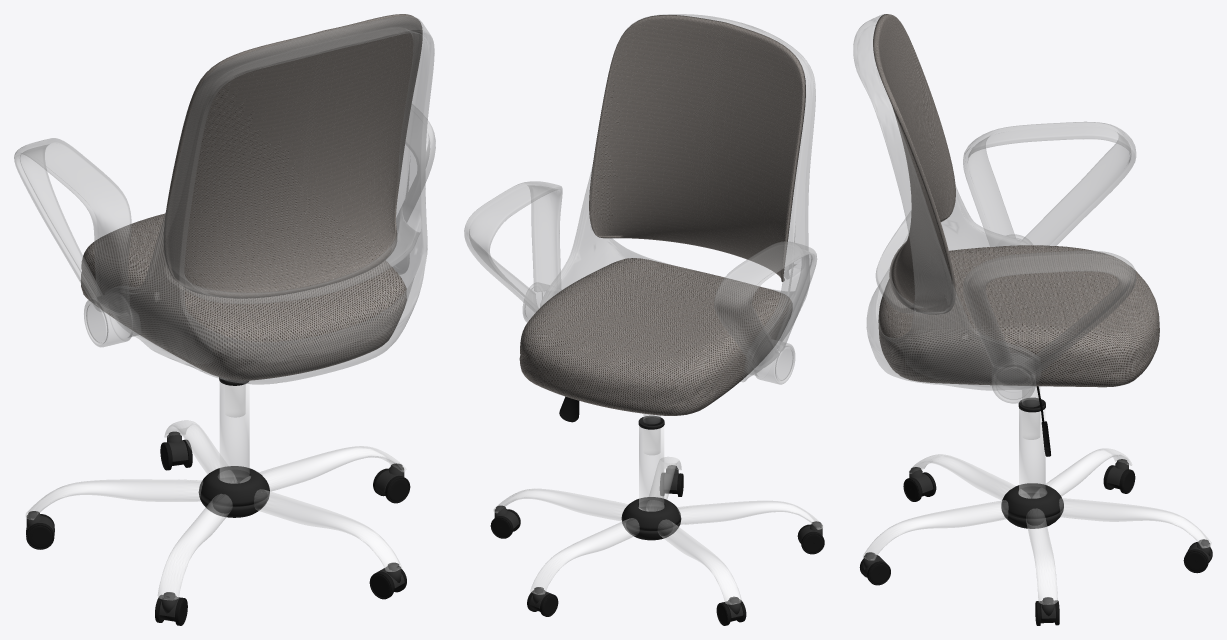
The model's file is office-chair-transformed.glb.
3 views of the same model, side by side, from view 1: azimuth 30°, elevation 25°; view 2: azimuth 150°, elevation 25°; view 3: azimuth 270°, elevation 25° (orthographic). The views are drawn at different scales.
Visible parts, largest first — view 1: chair; view 2: chair; view 3: chair.
Part boxes in pixels (x1,y1,x2,y2): chair: [14, 14, 435, 625]; chair: [464, 14, 824, 625]; chair: [853, 14, 1212, 625].
Size of the model in its own units: 0.6267 by 0.994 by 0.6327.
Materials: 3 (3 with a texture image).
